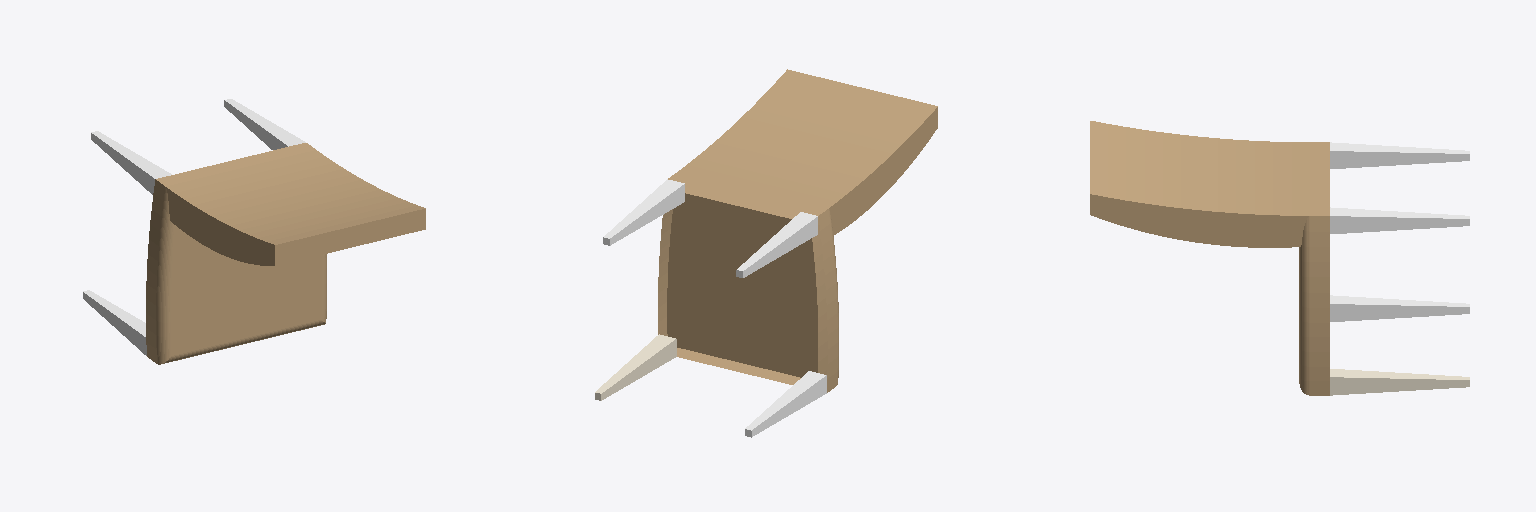
3 renders of one model, left to right at view 1: azimuth 30°, elevation 25°; view 2: azimuth 150°, elevation 25°; view 3: azimuth 270°, elevation 25°, orthographic.
Parts seen in each view (by area): view 1: chair; view 2: chair; view 3: chair.
Part boxes in pixels (left/top/right/bottom): chair: left=83, top=99, right=425, bottom=364; chair: left=595, top=69, right=937, bottom=437; chair: left=1090, top=121, right=1469, bottom=395.
Bounding box in the file's own units: 19.74 × 21.94 × 38.22.